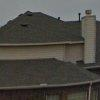Chimney: (74, 3, 99, 46)
